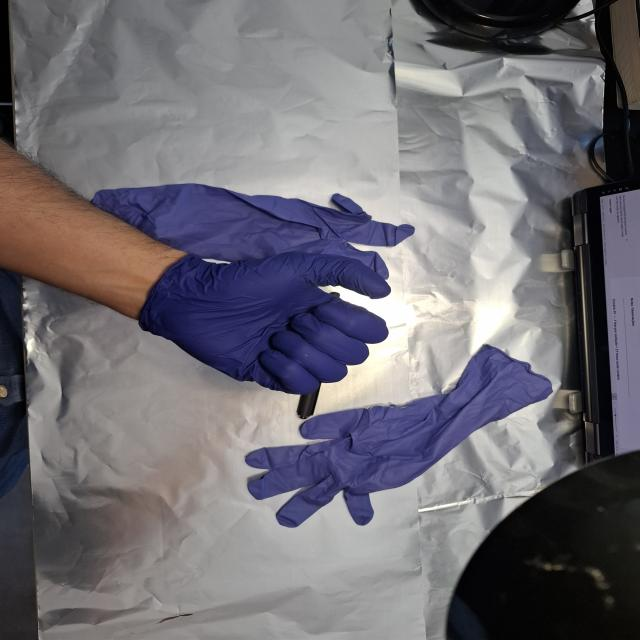glove_on: (135, 250, 394, 398)
